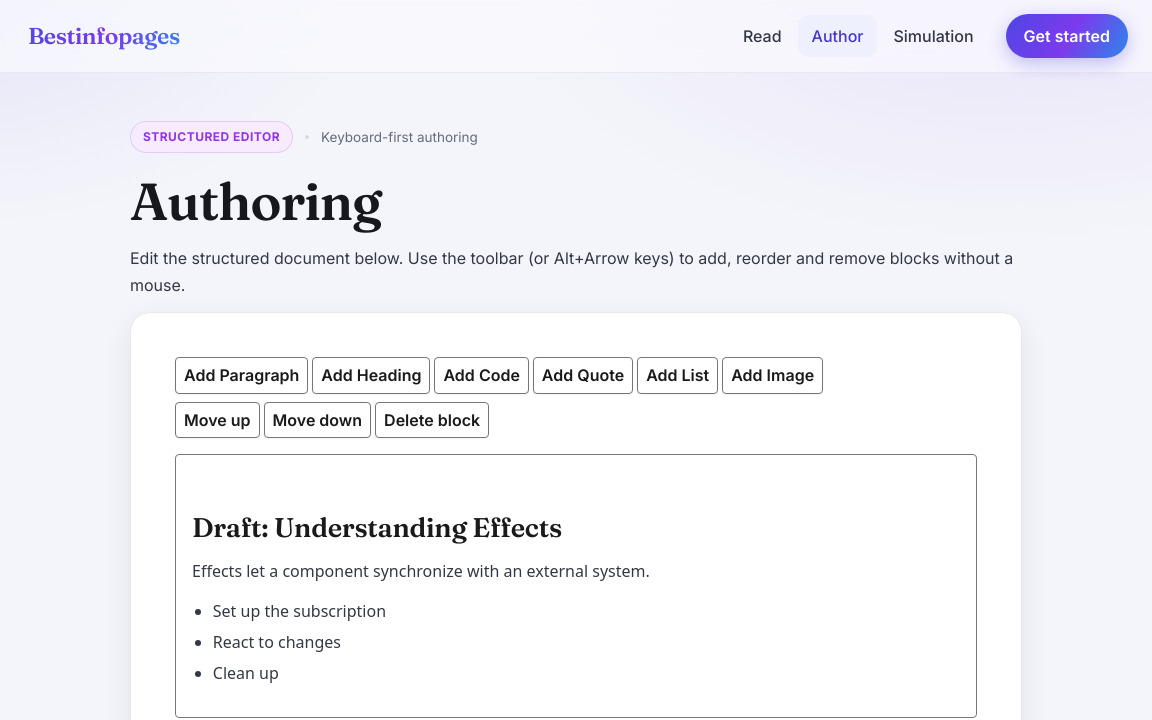
Scenario: AuthoringPage integration › updates the live outline when a block is added via keyboard-operable controls
The image size is (1152, 720).
What coordinates should you click on to do the following:
click the button "Add Paragraph"
I would click on:
 (242, 375)
Its box is [175, 357, 308, 394].
(page scrolled)
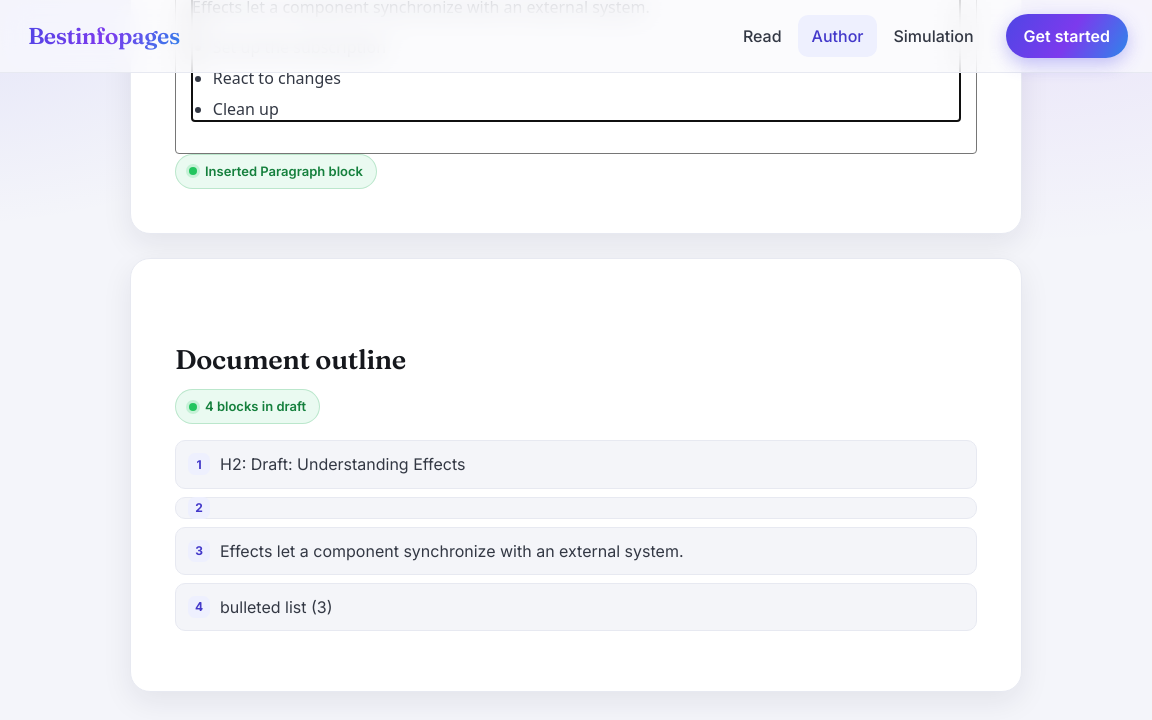
Expected: the text "4 blocks in draft" is shown, [175, 389, 320, 424]
